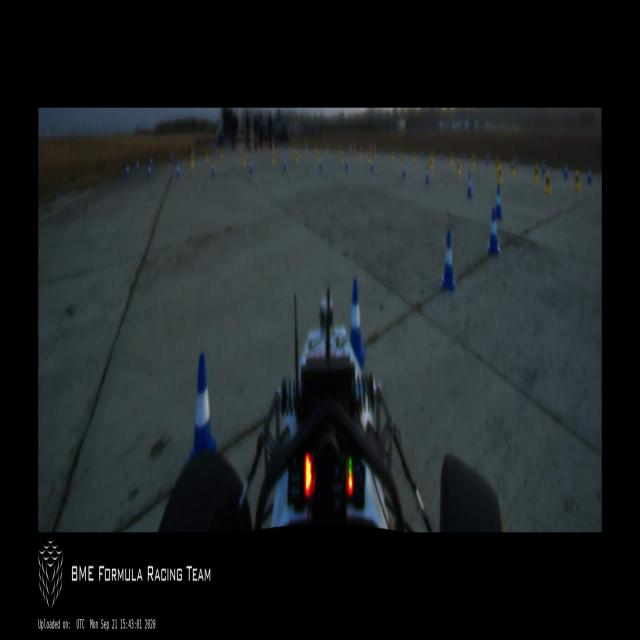blue_cone: (189, 352, 215, 458), (350, 278, 364, 368), (442, 231, 456, 290), (488, 207, 499, 255), (496, 186, 502, 220), (467, 174, 472, 198), (563, 162, 568, 178), (425, 165, 429, 184), (587, 165, 591, 183), (402, 161, 406, 177), (126, 162, 130, 178), (248, 158, 252, 174), (211, 162, 215, 177), (147, 163, 151, 177), (542, 160, 546, 173), (135, 160, 139, 172), (176, 163, 179, 179), (283, 157, 286, 171), (319, 156, 322, 170), (345, 158, 348, 170), (171, 151, 174, 162), (486, 153, 489, 164), (371, 158, 373, 172), (151, 156, 153, 168), (440, 150, 442, 160), (515, 157, 517, 167), (396, 149, 398, 158), (421, 150, 423, 159), (345, 145, 347, 153), (381, 147, 383, 155), (463, 152, 465, 160)
orange_cone: (354, 145, 356, 157), (350, 144, 352, 155)
yellow_cone: (544, 169, 552, 194), (574, 169, 580, 191), (534, 163, 539, 182), (510, 159, 515, 178), (429, 156, 434, 173), (498, 168, 502, 185), (457, 160, 461, 175), (449, 152, 453, 166), (272, 150, 275, 164), (243, 154, 246, 166), (368, 152, 371, 163), (341, 152, 344, 163), (412, 152, 415, 162), (401, 154, 403, 168), (472, 154, 474, 168), (296, 151, 298, 163), (210, 154, 212, 166), (496, 157, 498, 168), (318, 151, 320, 162), (206, 151, 208, 162), (432, 152, 434, 162), (392, 150, 394, 160), (340, 144, 342, 154), (315, 144, 317, 154), (220, 148, 222, 158), (360, 149, 362, 157)
